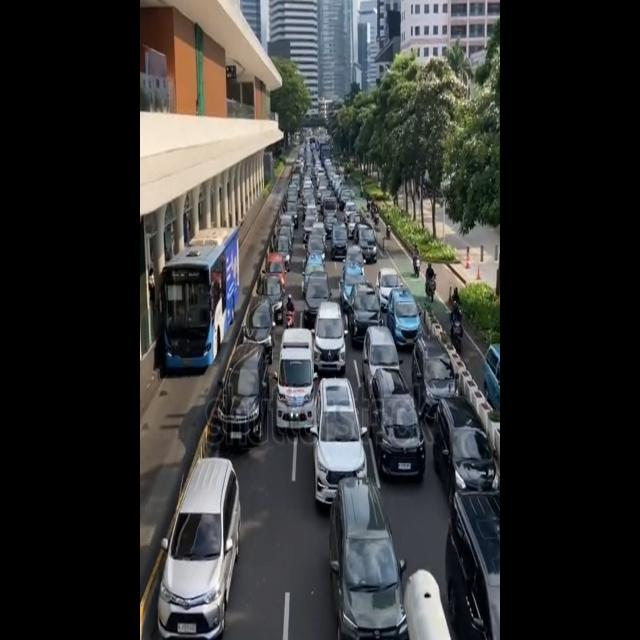Ambulance: (276, 319, 320, 437)
